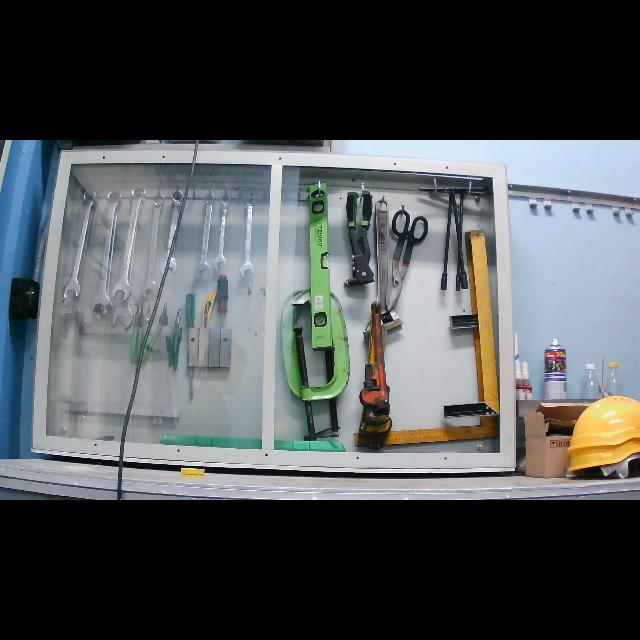water_pass: (304, 178, 338, 356)
